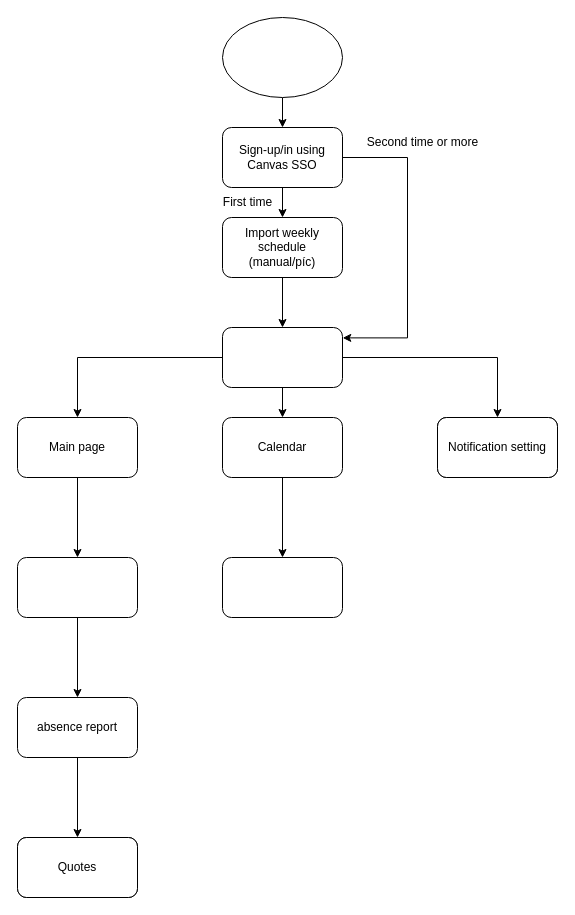
Image size: 575x915. Some labels were removed from this diagram. The centre of each missing label's shape, as x and y in pixels:
Home page: pixel 282 357
Start: pixel 282 57
Streak of coming to class: pixel 77 587
Upcoming deadline/ tests: pixel 282 587
